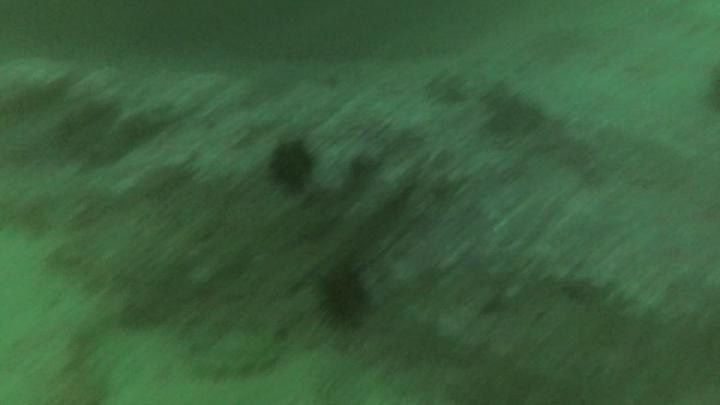echinus: (322, 271, 368, 327), (272, 146, 312, 194)
holothurian: (192, 344, 276, 380)
